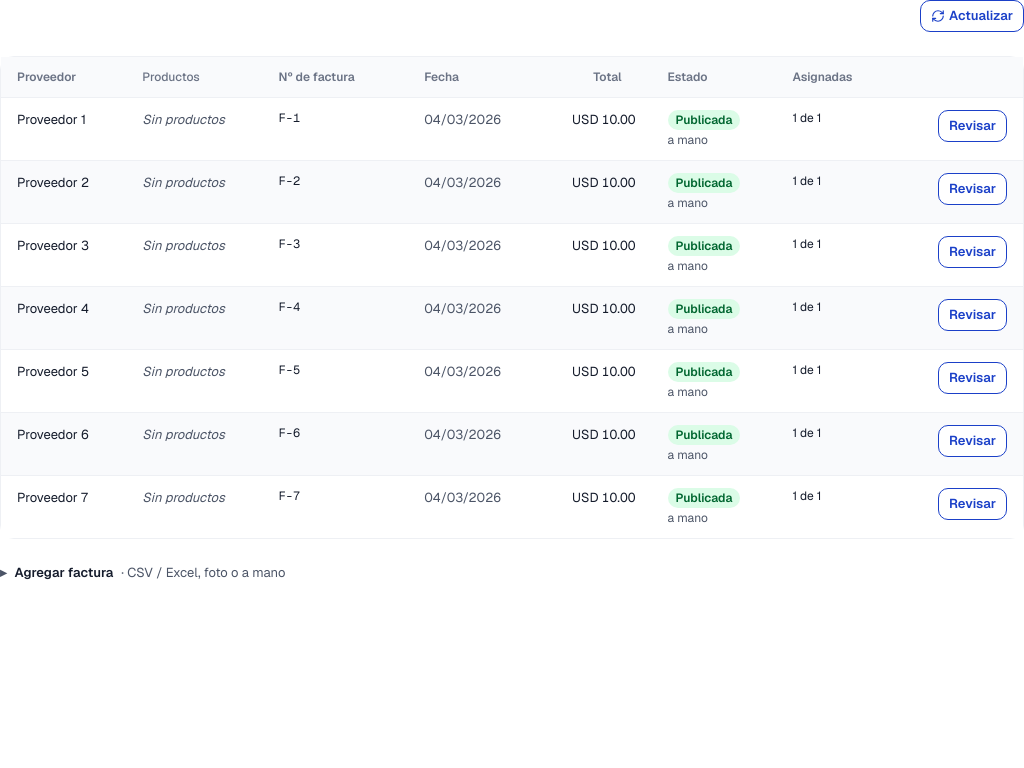
Compras: Revisar inline › Ocultar, switching rows and Cerrar
This screenshot has width=1024, height=768.
Click the button "Revisar" in the row of "Proveedor 1": point(973, 126) [938, 110, 1007, 142]
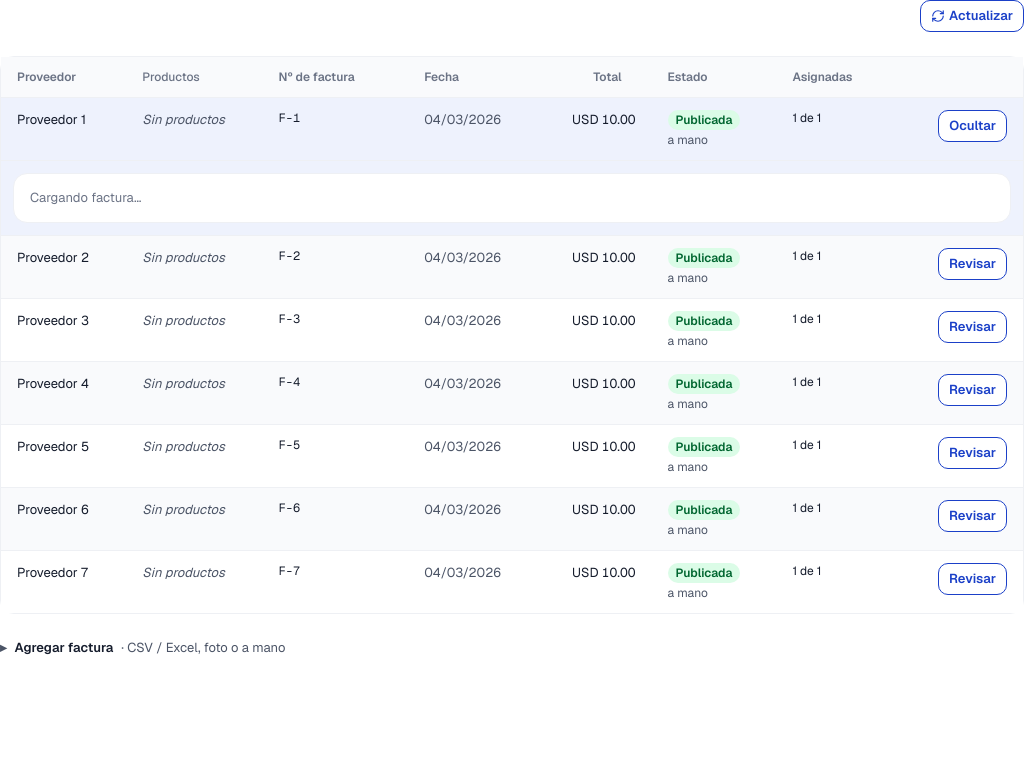
Expected: the row with test id "invoice-review-row" is shown, [1, 160, 1023, 235]
Click the button "Ocultar": point(973, 126) [938, 110, 1007, 142]
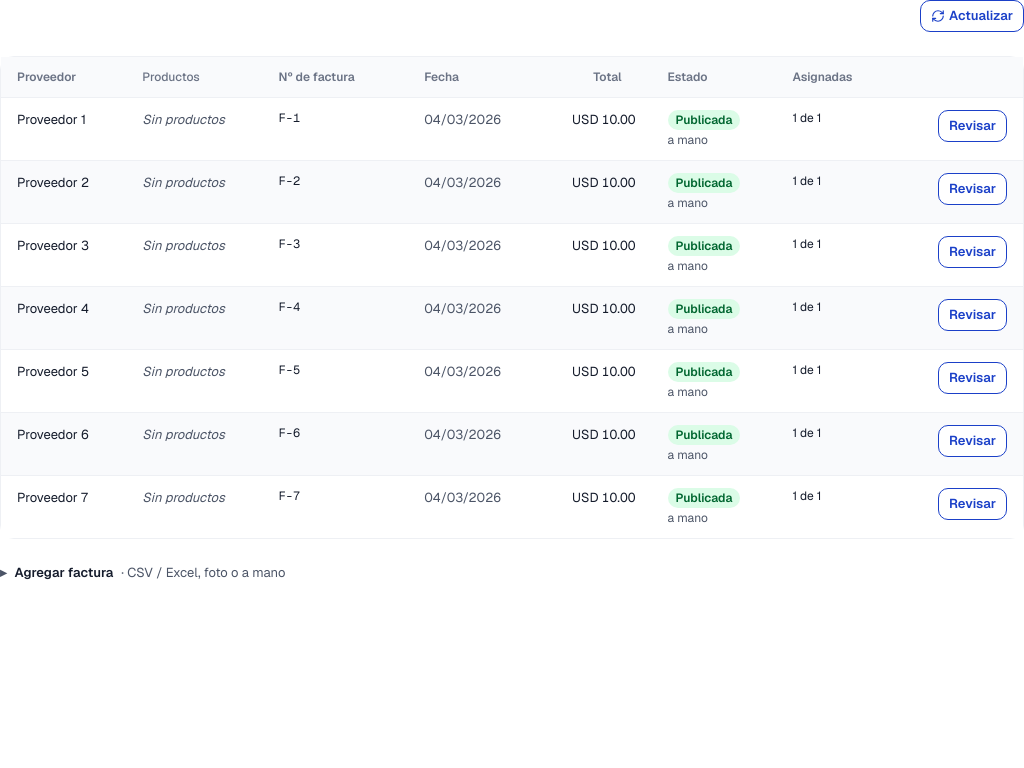
Expected: the row with test id "invoice-review-row" is gone
Click the button "Revisar" in the row of "Proveedor 1": point(973, 126) [938, 110, 1007, 142]
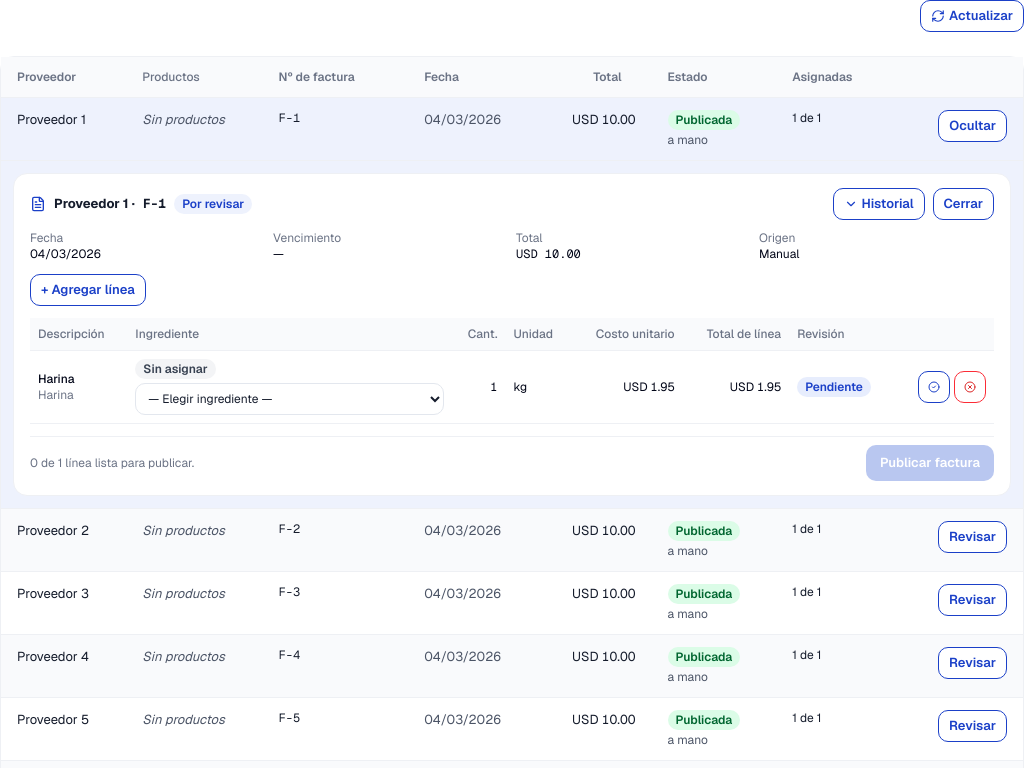
Expected: the row with test id "invoice-review-row" is shown, [1, 160, 1023, 508]
Click the button "Revisar" in the row of "Proveedor 2": point(973, 537) [938, 521, 1007, 553]
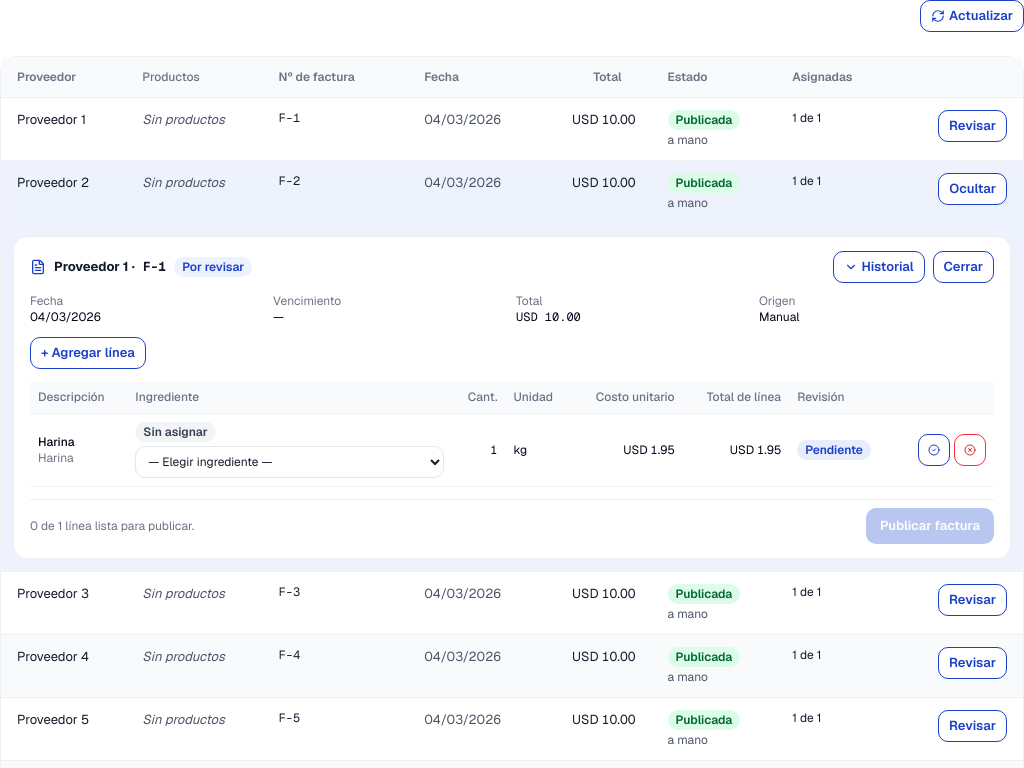
Expected: the number of rows with test id "invoice-review-row" is 1, [1, 224, 1023, 572]
Click the button "Cerrar": point(963, 267) [933, 251, 994, 283]
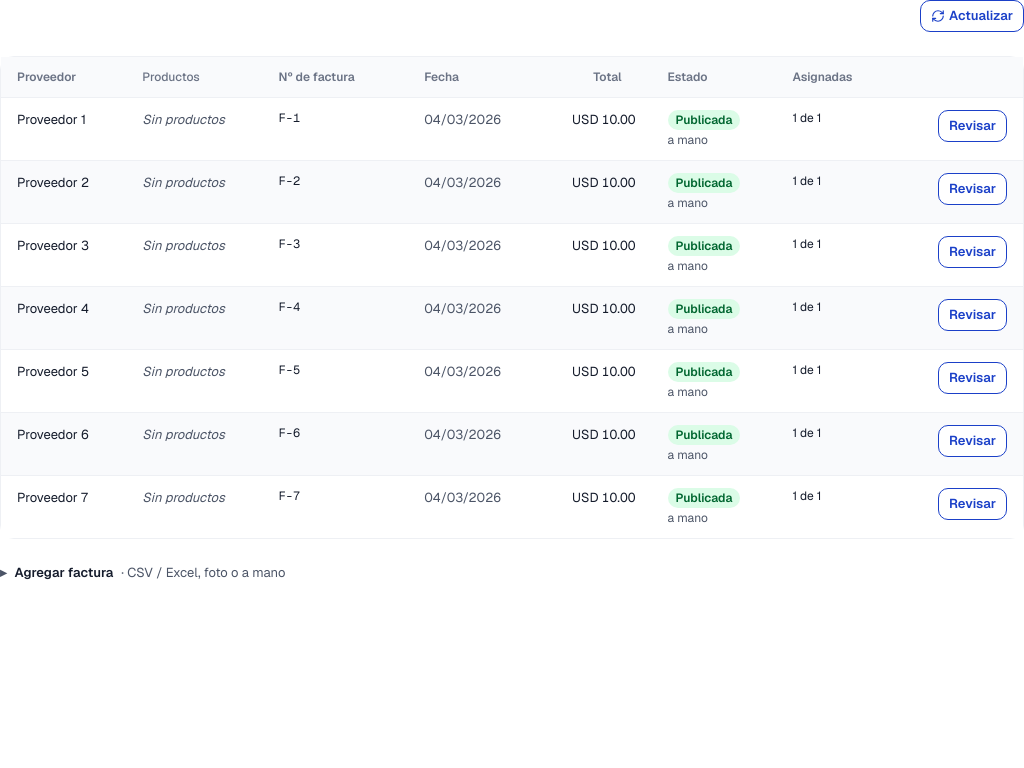
Expected: the row with test id "invoice-review-row" is gone
